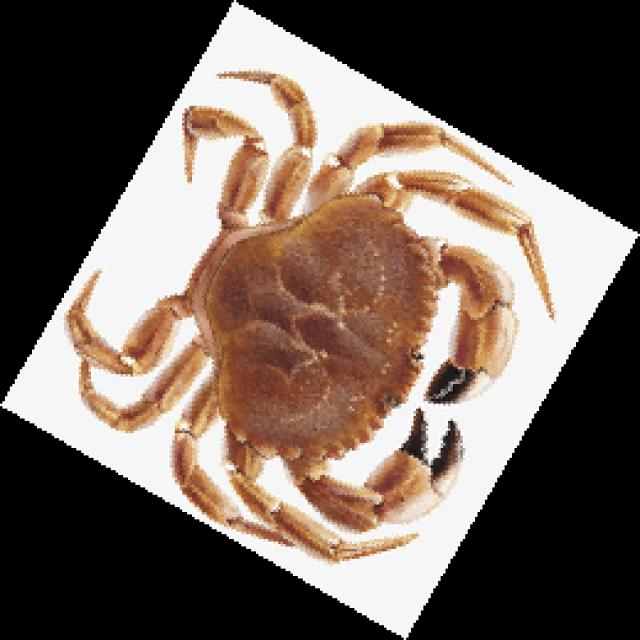Native Jonah crab: (69, 69, 551, 561)
